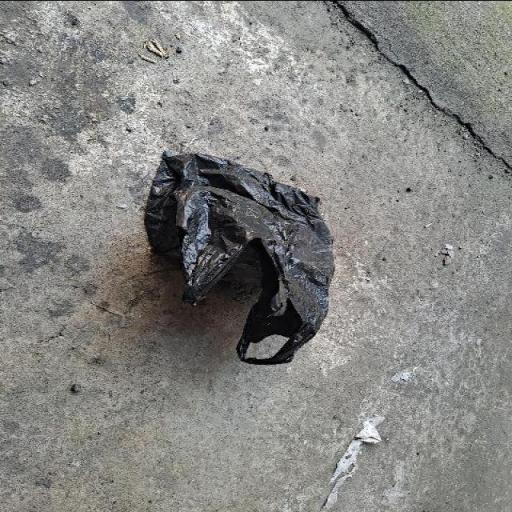plastic-bag: (143, 146, 338, 368)
